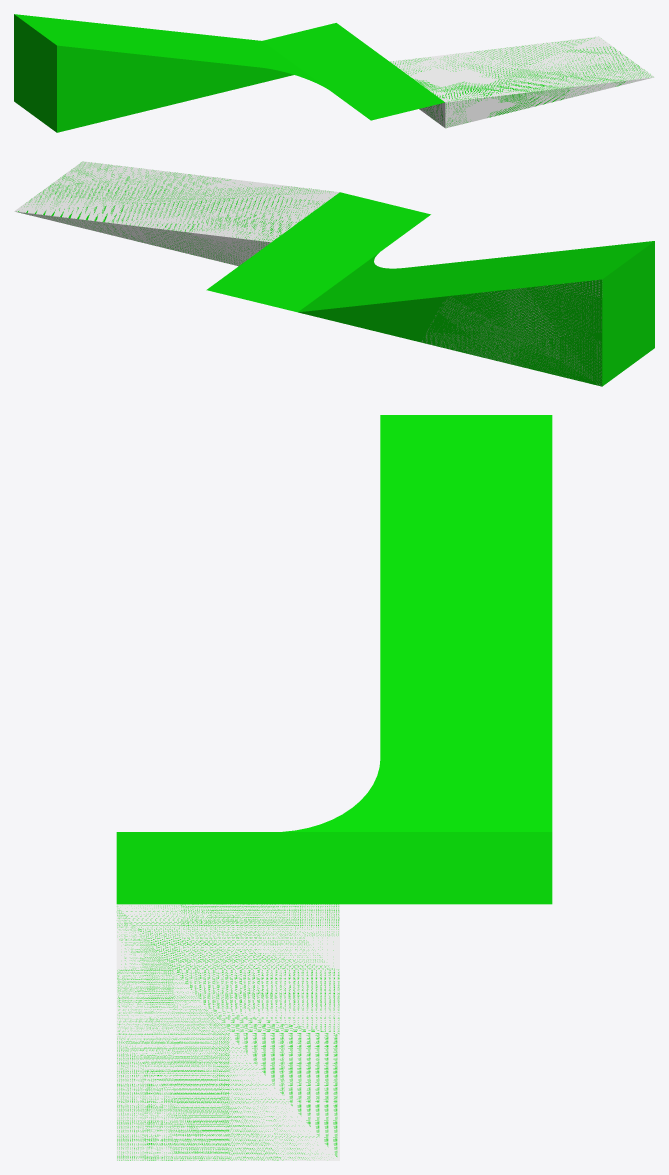
The model's file is con.dae.
3 views of the same model, one above another, from view 1: azimuth 30°, elevation 25°; view 2: azimuth 150°, elevation 25°; view 3: azimuth 270°, elevation 25° (orthographic). The views are drawn at different scales.
Parts seen in each view (by area): view 1: group_0, instance_0, SketchUp; view 2: group_0, instance_0, SketchUp; view 3: group_0, instance_0.
Boxes of the visible parts, x1,y1,x2,y2 form: group_0: (14, 14, 444, 132); instance_0: (390, 36, 654, 128); SketchUp: (27, 24, 293, 132); group_0: (206, 192, 654, 386); instance_0: (14, 161, 339, 266); SketchUp: (421, 241, 654, 386); group_0: (116, 415, 552, 904); instance_0: (116, 904, 339, 1160).
Bounding box in the file's own units: 1689 × 599 × 344.
